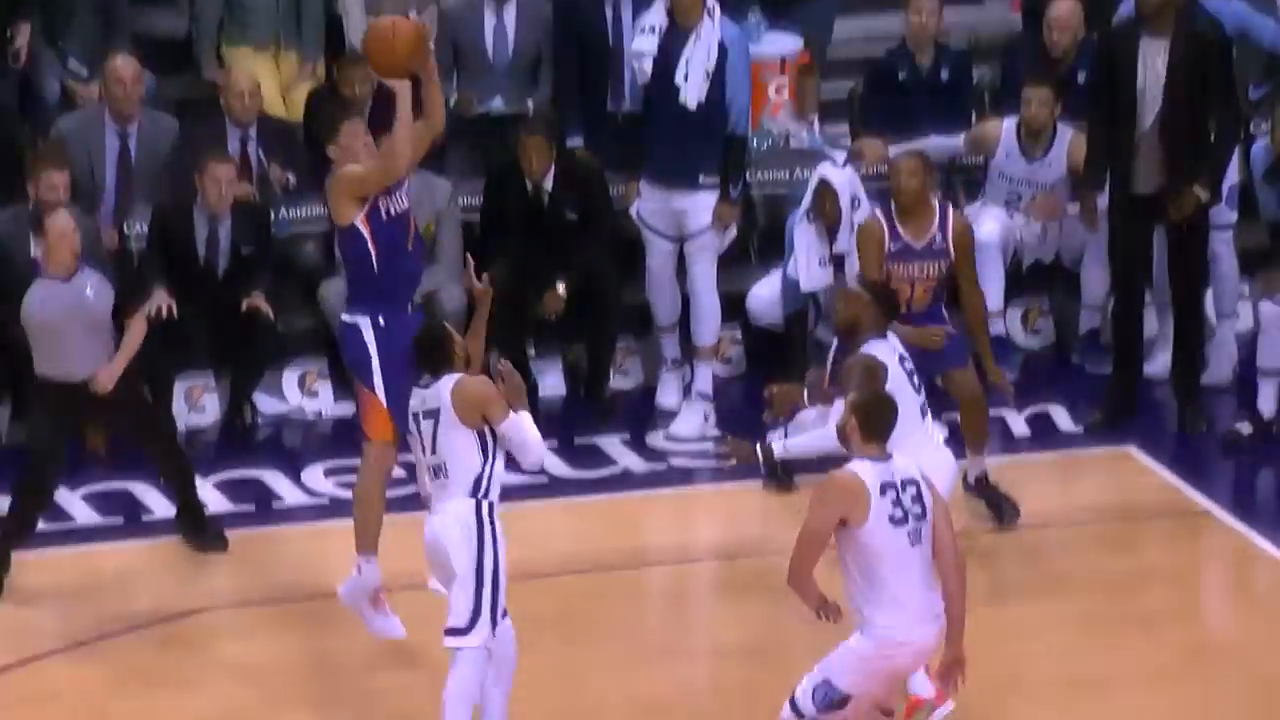ball: (362, 15, 433, 83)
